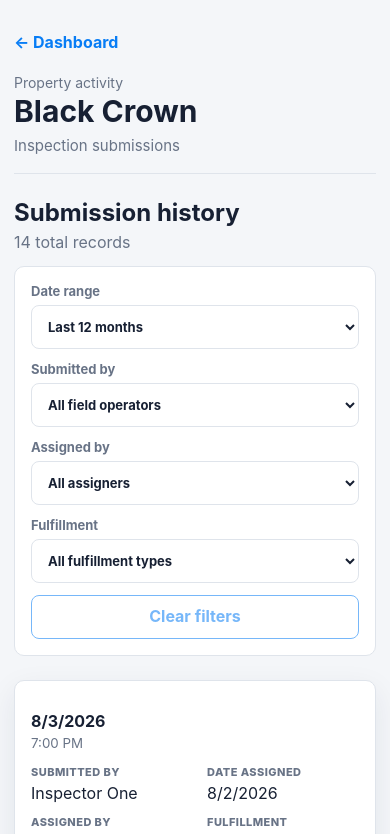
it: applies submitter, assigner, and fulfillment filters on the server before requesting a page
Check: the text "Inspector One" is shown, box [31,783,138,803]
Select "Inspector One (inspector@example.com)" in the dropdown labelled "Submitted by" at (195,405), box [31,383,359,427]
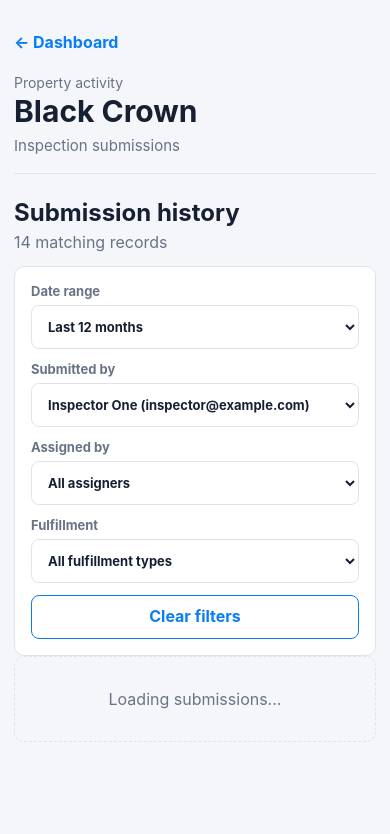
Select "Admin One (admin@example.com)" in the dropdown labelled "Assigned by" at (195,483), box [31,461,359,505]
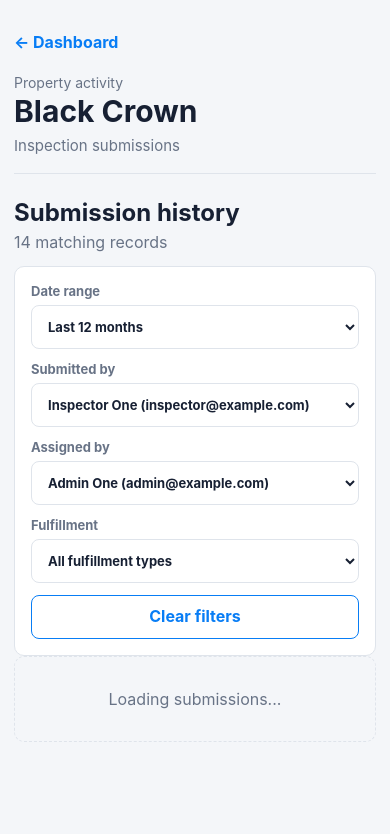
Select "Afterlight contractor" in the dropdown labelled "Fulfillment" at (195,561), box [31,539,359,583]
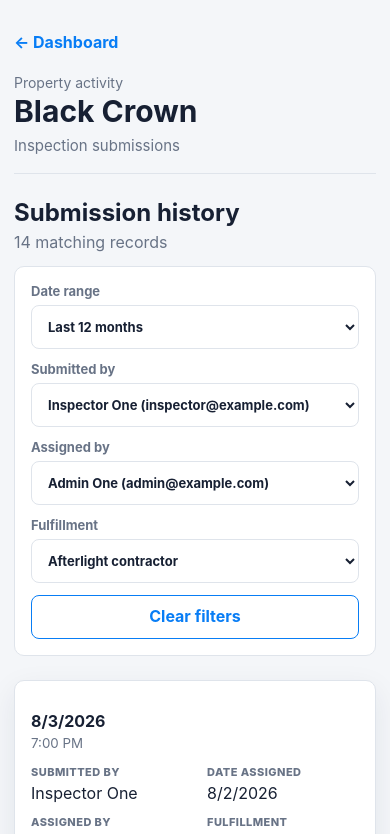
Check: the text "Loading submissions..." is gone
